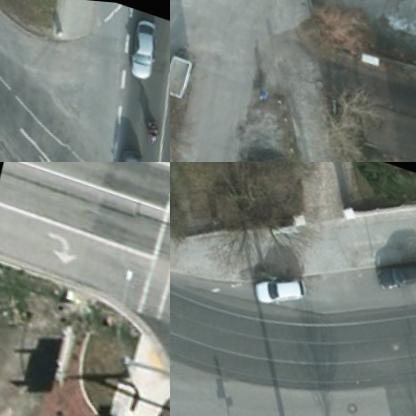car: (116, 14, 160, 80), (365, 242, 415, 298), (248, 262, 304, 308), (103, 143, 147, 161)
